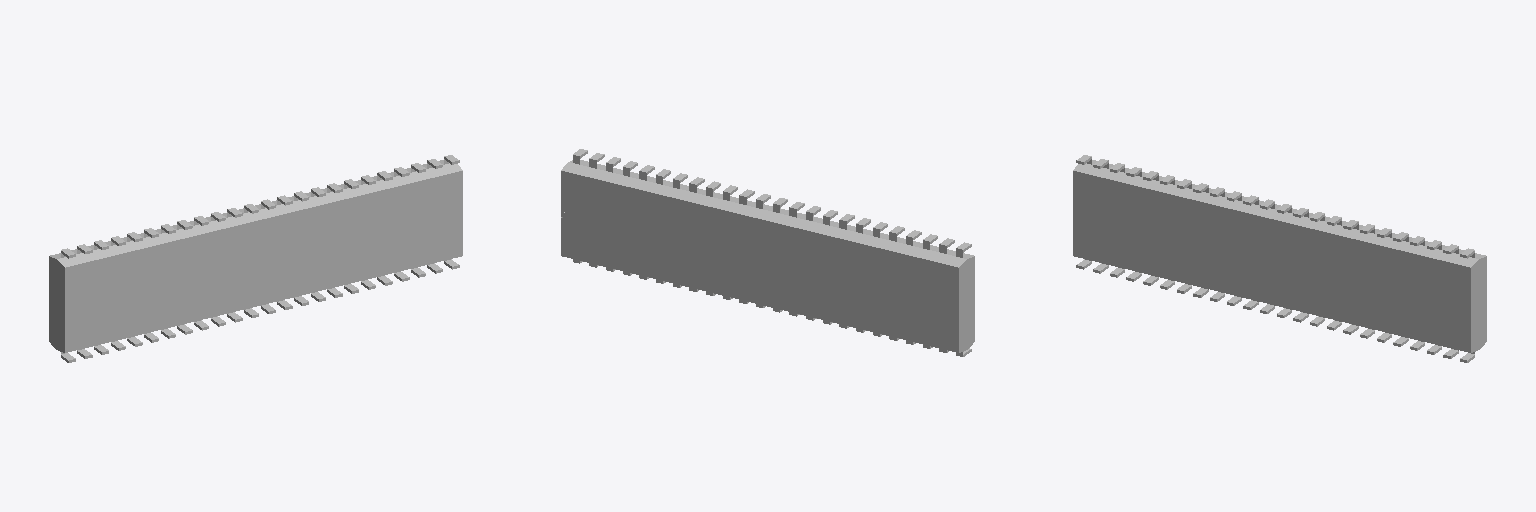
The model's file is DIL48.obj.
3 views of the same model, side by side, from view 1: azimuth 30°, elevation 25°; view 2: azimuth 150°, elevation 25°; view 3: azimuth 330°, elevation 25° (orthographic).
Visible parts, largest first — view 1: ShapeIndexedFaceSet.001_ShapeIndexedFaceSet.002; view 2: ShapeIndexedFaceSet.001_ShapeIndexedFaceSet.002, ShapeIndexedFaceSet_ShapeIndexedFaceSet.001; view 3: ShapeIndexedFaceSet.001_ShapeIndexedFaceSet.002.
Part boxes in pixels (left/top/right/bottom): ShapeIndexedFaceSet.001_ShapeIndexedFaceSet.002: left=49, top=160, right=462, bottom=352; ShapeIndexedFaceSet.001_ShapeIndexedFaceSet.002: left=561, top=160, right=974, bottom=352; ShapeIndexedFaceSet_ShapeIndexedFaceSet.001: left=570, top=202, right=638, bottom=245; ShapeIndexedFaceSet.001_ShapeIndexedFaceSet.002: left=1073, top=160, right=1486, bottom=352.
Size of the model in its own units: 60.71 by 15.64 by 4.26.